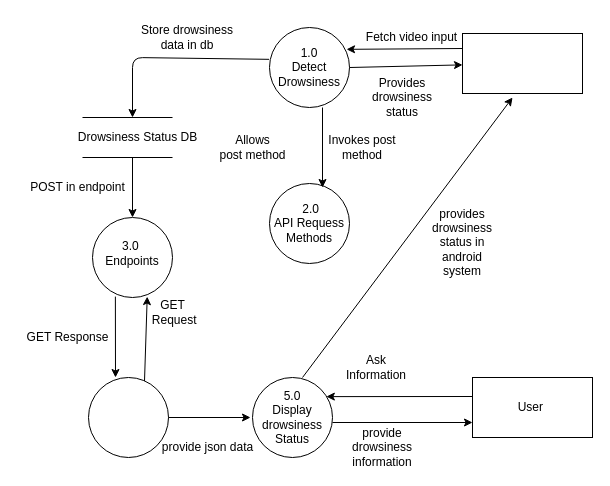
Some shapes in this 610 by 486 pixel diagram are drawn without their labels. Each missing label, with the box of its shape:
4.0 REST client: (88, 376, 168, 458)
Driver: (462, 32, 582, 94)
